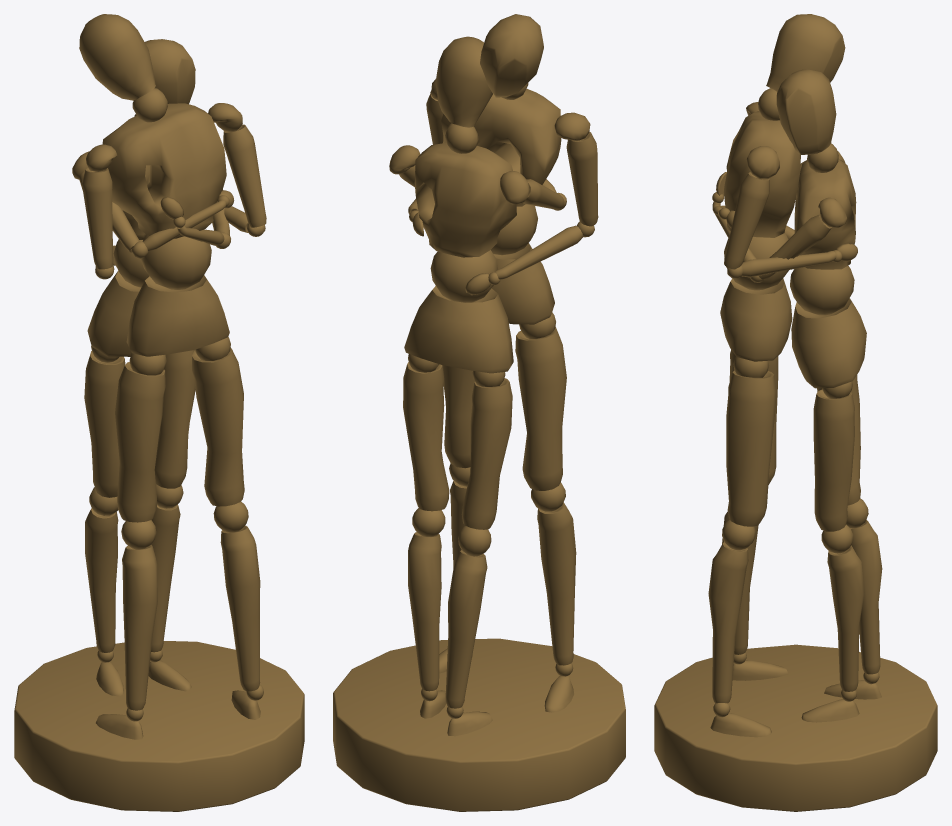
Rendered from maniquíChikito_pose_05.fbx.
The picture shows the model from 3 angles, left to right: view 1: azimuth 30°, elevation 25°; view 2: azimuth 150°, elevation 25°; view 3: azimuth 270°, elevation 25°; orthographic projection. The views are drawn at different scales.
Visible parts, largest first — view 1: dummy_obj.003, dummy_obj.005; view 2: dummy_obj.003, dummy_obj.005; view 3: dummy_obj.003, dummy_obj.005.
Boxes of the visible parts, left/top/right/bottom form: dummy_obj.003: left=14, top=39, right=304, bottom=811; dummy_obj.005: left=79, top=14, right=266, bottom=739; dummy_obj.003: left=333, top=36, right=625, bottom=811; dummy_obj.005: left=408, top=14, right=598, bottom=712; dummy_obj.003: left=654, top=69, right=937, bottom=811; dummy_obj.005: left=708, top=14, right=857, bottom=737.
Bounding box in the file's own units: 71.62 × 200 × 71.62.
